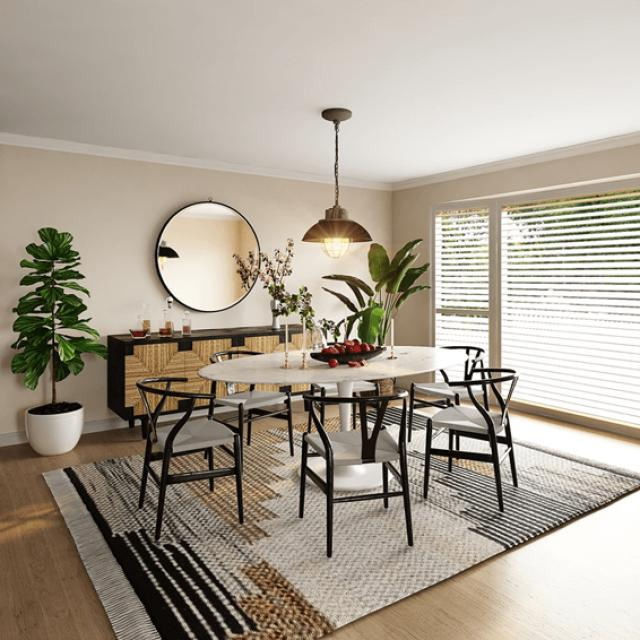modern chair: (124, 358, 242, 530), (308, 388, 422, 552), (424, 349, 522, 522)
